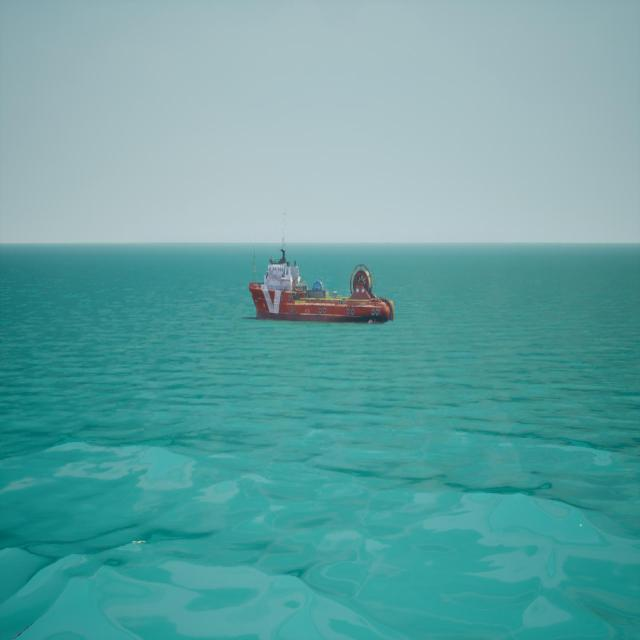tug boat: (249, 234, 395, 326)
